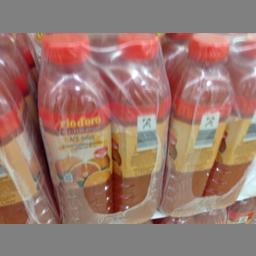juice: (36, 33, 116, 217), (160, 34, 233, 212), (110, 34, 172, 212)
